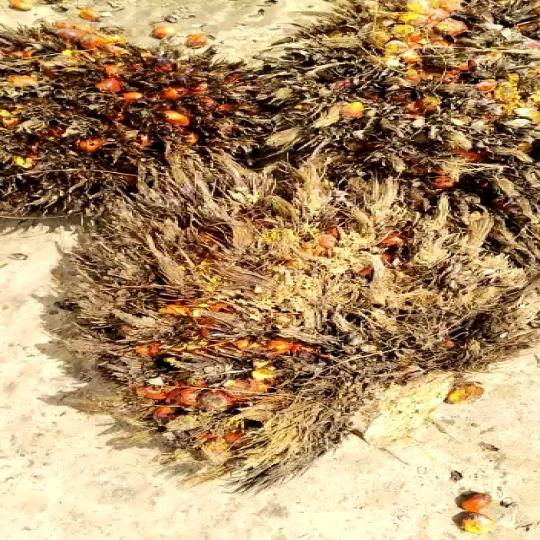terlalu masak: (42, 149, 526, 494), (0, 35, 316, 219)
